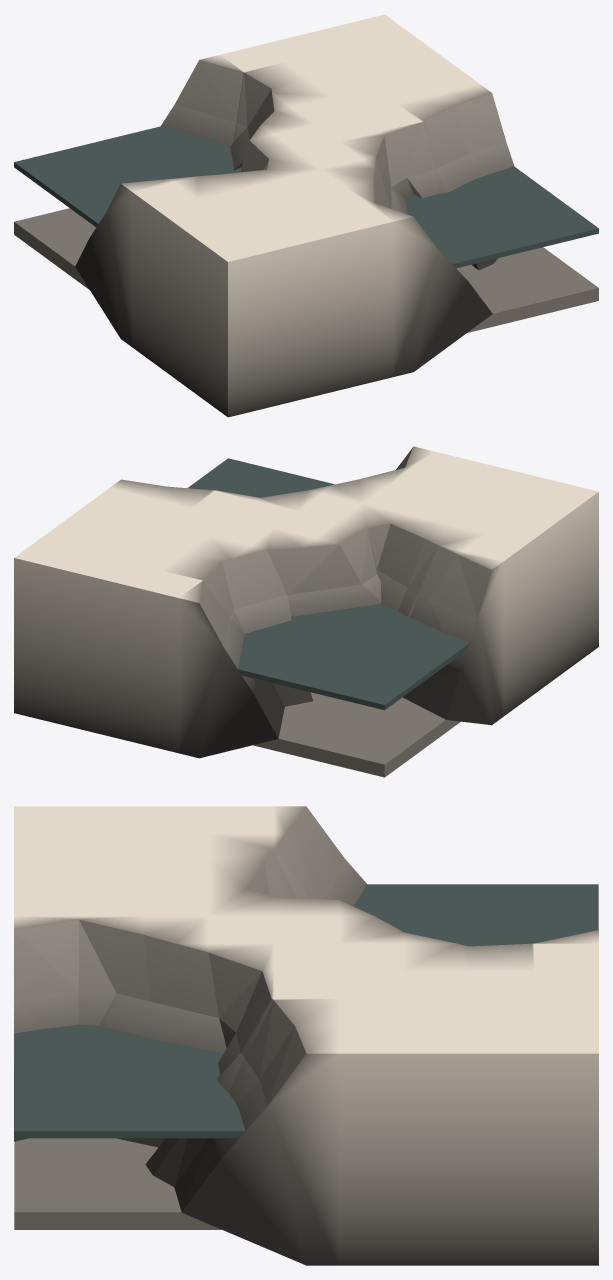
File: SM_VKI_Ground_Stream_OXOX_Q00.fbx
3 renders of one model, top to bottom at view 1: azimuth 30°, elevation 25°; view 2: azimuth 150°, elevation 25°; view 3: azimuth 270°, elevation 25°, orthographic. The views are drawn at different scales.
Visible parts, largest first — view 1: SM_VKI_Ground_Stream_OXOX_Q00.001; view 2: SM_VKI_Ground_Stream_OXOX_Q00.001; view 3: SM_VKI_Ground_Stream_OXOX_Q00.001.
Part boxes in pixels (x1,y1,x2,y2): SM_VKI_Ground_Stream_OXOX_Q00.001: [14, 14, 598, 417]; SM_VKI_Ground_Stream_OXOX_Q00.001: [14, 446, 598, 777]; SM_VKI_Ground_Stream_OXOX_Q00.001: [14, 806, 598, 1265].
Bounding box in the file's own units: 1.5 × 0.6 × 1.5.
